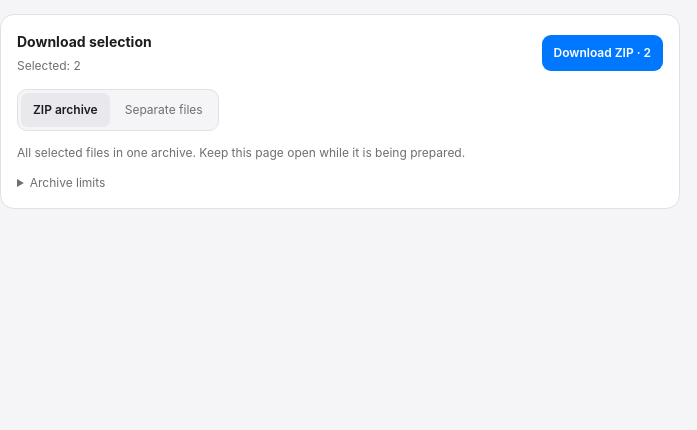
Test: offers a browser-download fallback for failed ZIP files and does not repeat successful files
Click the button "Download ZIP · 2" at (602, 53), box [542,35,663,71]
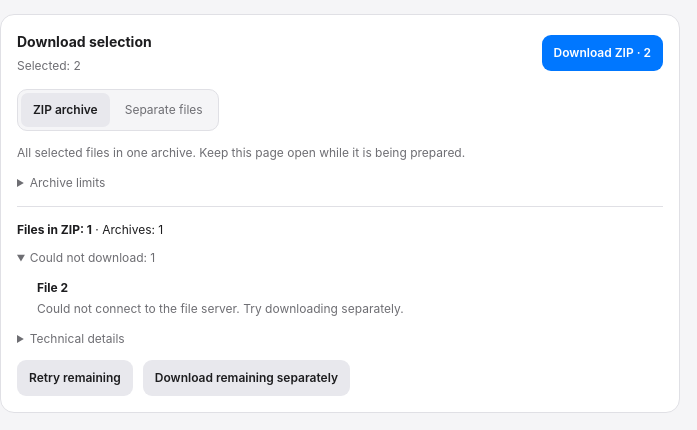
expect the text "Could not connect to the file server" is shown: met, box [37,301,404,316]
Click the button "Download remaining separately" at (246, 378), box [143,360,350,396]
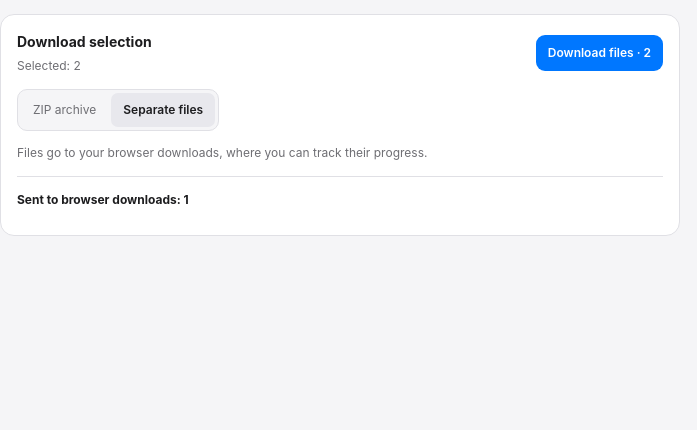
expect the text "Sent to browser downloads: 1" is shown: met, box [17,192,189,207]
